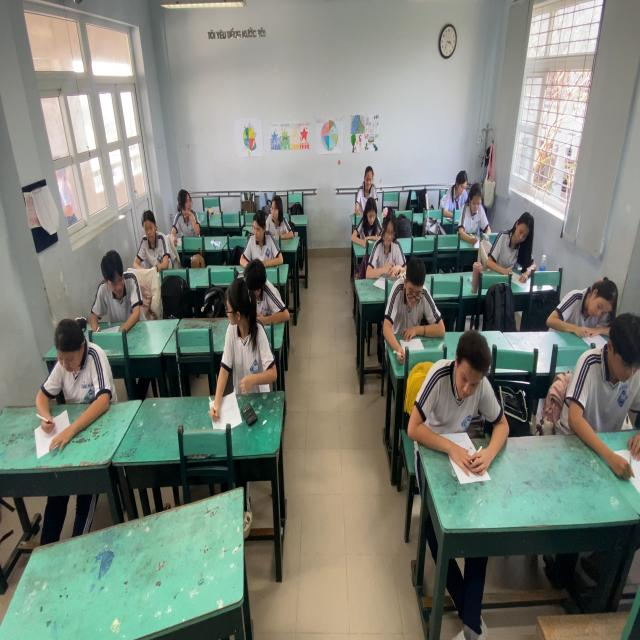cheating: (212, 276, 280, 393), (239, 262, 294, 327), (173, 183, 197, 241)
not_cheating: (420, 334, 502, 441), (37, 317, 107, 421), (574, 313, 640, 414), (554, 268, 618, 334), (387, 255, 442, 327), (88, 248, 142, 320), (232, 206, 286, 278), (490, 210, 539, 272), (370, 210, 411, 272), (455, 186, 494, 241), (132, 202, 164, 264), (266, 197, 302, 241), (354, 161, 385, 206), (440, 169, 471, 213), (350, 196, 385, 234)
